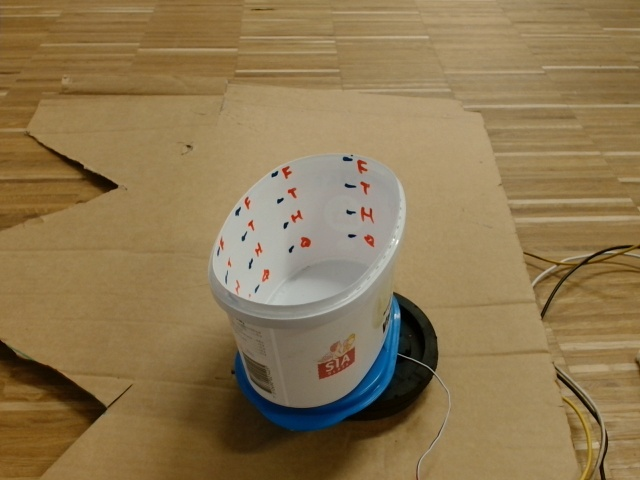Big_zero: (208, 153, 405, 329)
